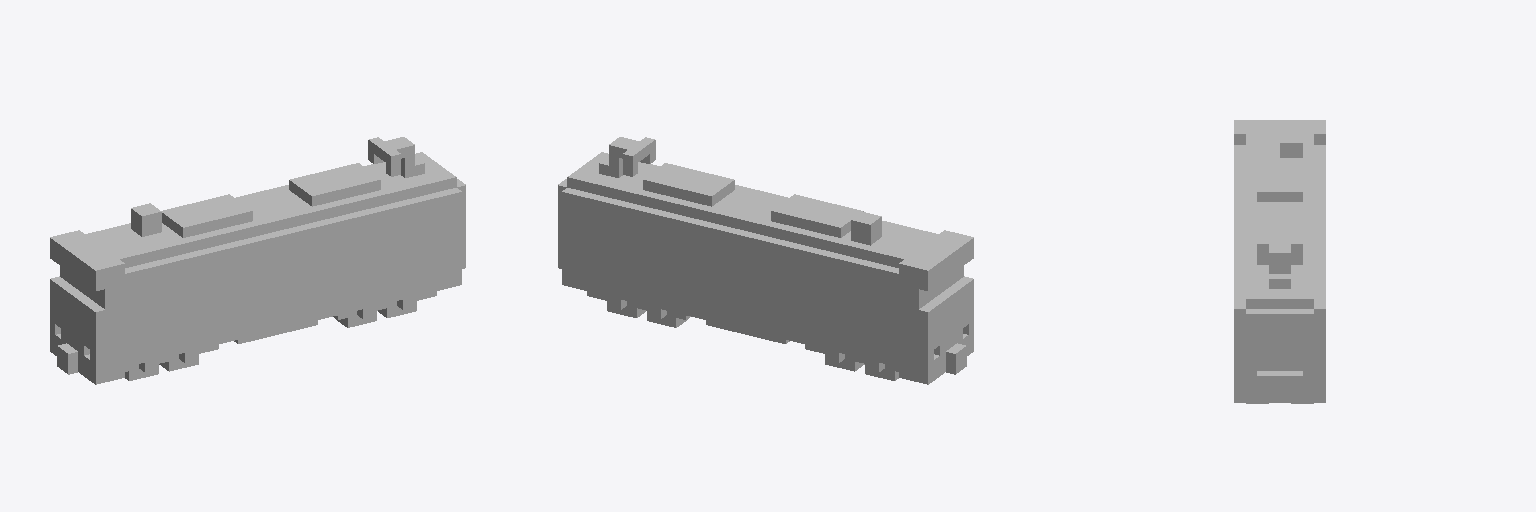
3 views of the same model, side by side, from view 1: azimuth 30°, elevation 25°; view 2: azimuth 150°, elevation 25°; view 3: azimuth 270°, elevation 25° (orthographic).
Parts seen in each view (by area): view 1: train_back; view 2: train_back; view 3: train_back.
Boxes of the visible parts, x1,y1,x2,y2 form: train_back: [50, 137, 465, 384]; train_back: [558, 137, 973, 384]; train_back: [1234, 120, 1325, 403].
Size of the model in its own units: 4.88 by 1.88 by 1.